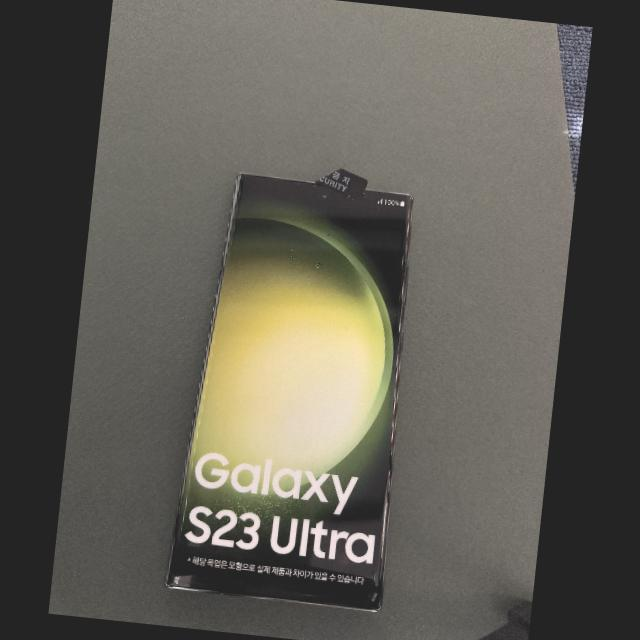lens: (322, 193, 326, 198)
phone: (164, 173, 413, 612)
sticker: (315, 168, 368, 200)
